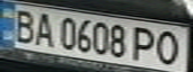0: (54, 15, 78, 52), (90, 19, 112, 56)
6: (72, 17, 93, 54)
8: (109, 21, 130, 60)
A: (30, 10, 57, 47)
B: (9, 7, 39, 44)
O: (151, 29, 187, 66)
P: (127, 25, 160, 62)
